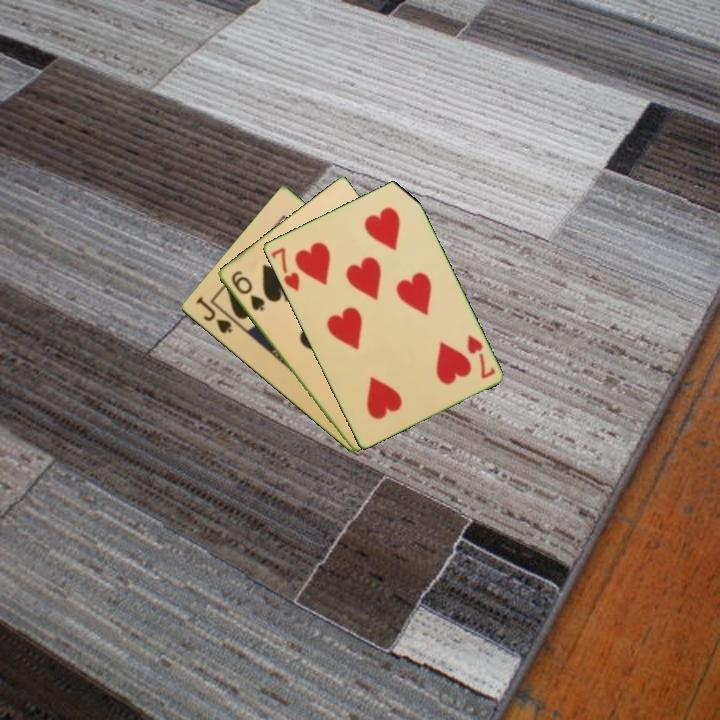6s: (227, 267, 267, 314)
7h: (267, 244, 302, 295), (463, 331, 498, 381)
Js: (192, 293, 235, 337)
